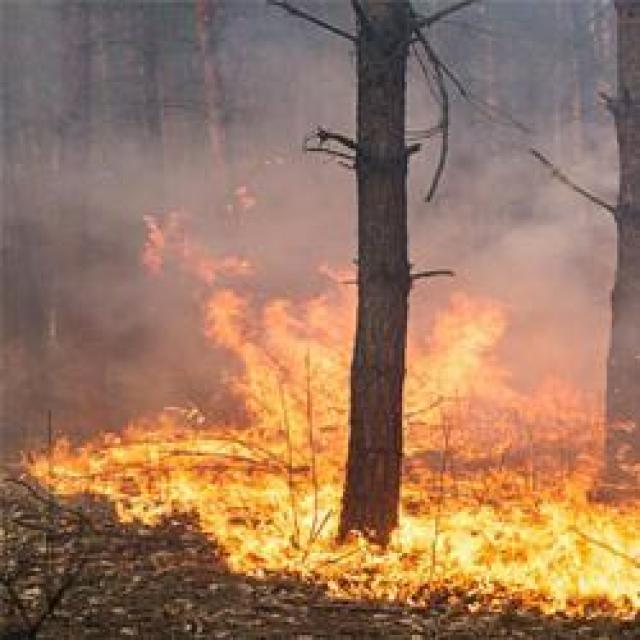Fire: (42, 419, 394, 611), (398, 486, 640, 624), (218, 278, 348, 417), (406, 294, 511, 464)
Smoke: (0, 8, 351, 264), (413, 2, 614, 276), (1, 268, 209, 412), (516, 285, 604, 459)
